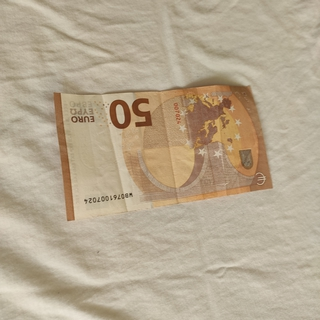50EUROBack: (51, 84, 274, 223)
